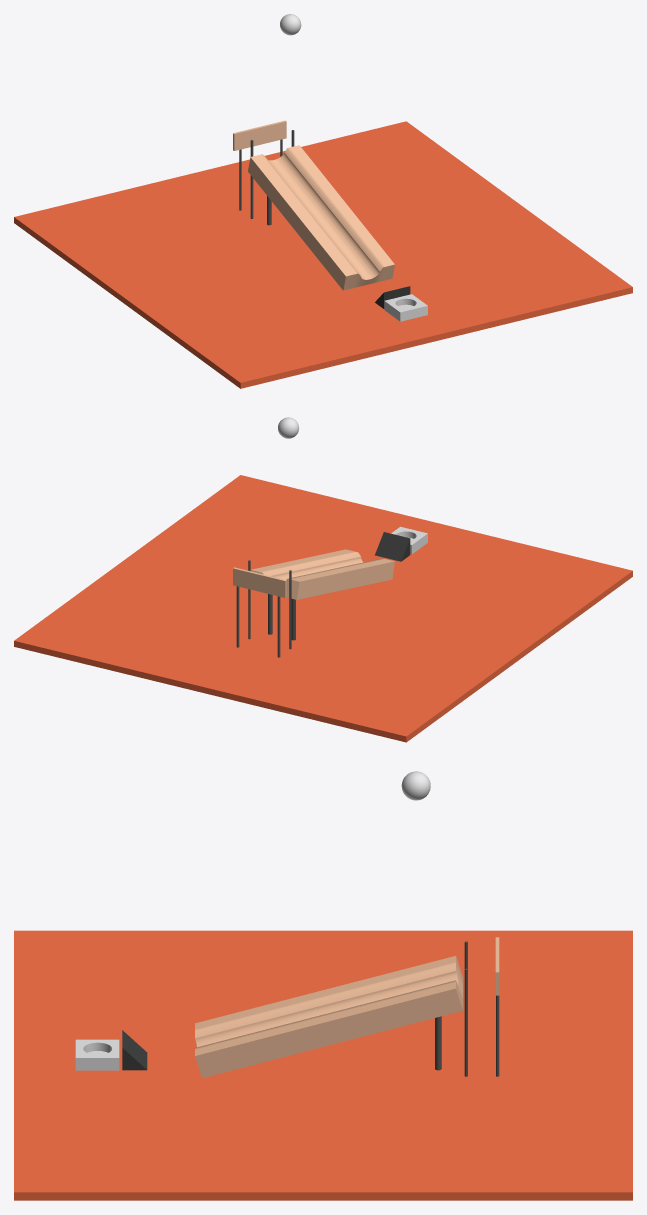
3 renders of one model, top to bottom at view 1: azimuth 30°, elevation 25°; view 2: azimuth 150°, elevation 25°; view 3: azimuth 270°, elevation 25°, orthographic. The views are drawn at different scales.
Parts seen in each view (by area): view 1: floor, slider, hitter, shooter, thoon; view 2: floor, slider, thoon, hitter, thadupp1, shooter; view 3: floor, slider, shooter, thoon, thadupp1, Sphere.
Part boxes in pixels (x1,y1,x2,y2): floor: [14, 121, 632, 388]; slider: [248, 145, 394, 290]; hitter: [233, 120, 286, 150]; shooter: [384, 294, 427, 321]; thoon: [239, 130, 294, 225]; floor: [14, 475, 632, 742]; slider: [250, 549, 394, 599]; thoon: [236, 560, 295, 657]; hitter: [233, 567, 286, 597]; thadupp1: [375, 532, 410, 561]; shooter: [391, 526, 427, 554]; floor: [14, 930, 632, 1200]; slider: [195, 956, 462, 1077]; shooter: [75, 1039, 119, 1070]; thoon: [435, 941, 499, 1076]; thadupp1: [122, 1030, 147, 1070]; Sphere: [401, 771, 430, 800].
Size of the model in its own units: 42.43 by 22.51 by 42.43.
